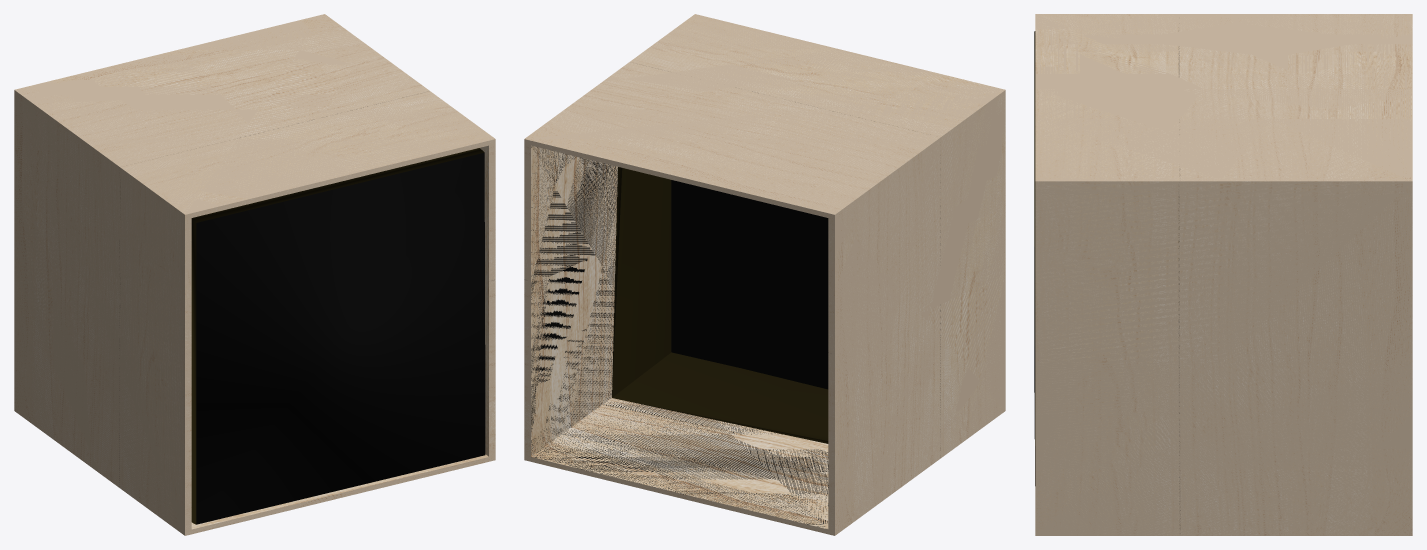
File: frameAmerican_wooden.glb
3 renders of one model, left to right at view 1: azimuth 30°, elevation 25°; view 2: azimuth 150°, elevation 25°; view 3: azimuth 270°, elevation 25°, orthographic. The views are drawn at different scales.
Parts seen in each view (by area): view 1: Material2, A_PaintingMesh, Material3.003; view 2: Material2, Material3.003, Material3.004, Mat, A_PaintingMesh; view 3: Material2, Material3.003, A_PaintingMesh.
Boxes of the visible parts, box(x1,y1,x2,y2) form: Material2: box(14, 14, 495, 535); A_PaintingMesh: box(191, 148, 485, 524); Material3.003: box(14, 15, 495, 533); Material2: box(524, 14, 1005, 535); Material3.003: box(524, 14, 1005, 534); Material3.004: box(531, 146, 828, 526); Mat: box(671, 180, 828, 389); A_PaintingMesh: box(612, 167, 828, 443); Material2: box(1035, 14, 1412, 535); Material3.003: box(1035, 14, 1412, 535); A_PaintingMesh: box(1034, 31, 1035, 485).
Size of what is drawn, in the model's own units: 1.07 by 1.05 by 1.02.
Materials: 6 (2 with a texture image).
